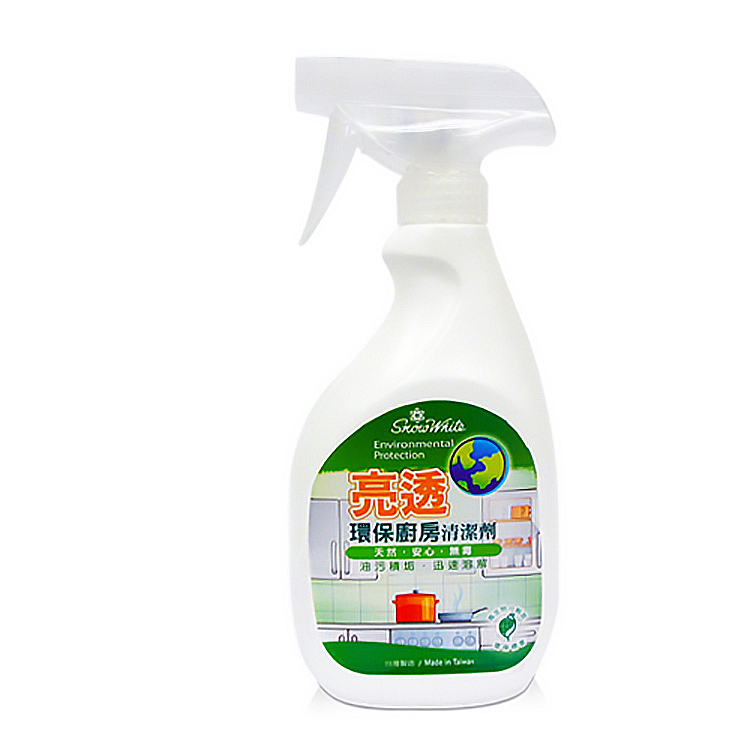cleaner: (288, 51, 559, 710)
